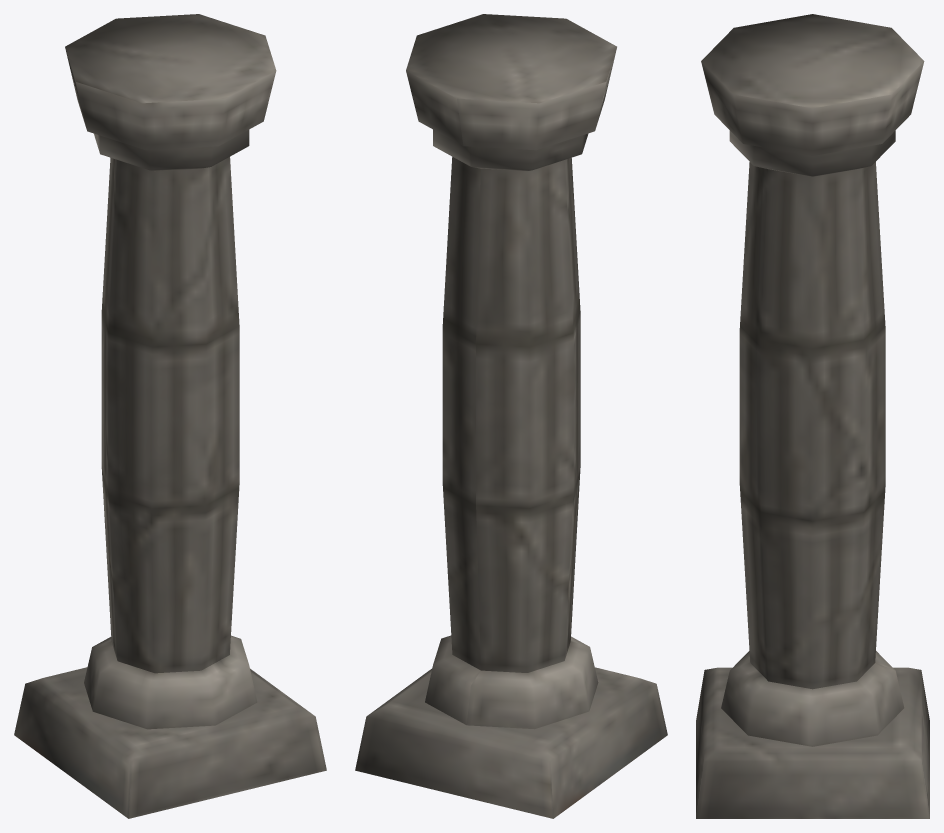
File: ruin_pillar.FBX
3 renders of one model, left to right at view 1: azimuth 30°, elevation 25°; view 2: azimuth 150°, elevation 25°; view 3: azimuth 270°, elevation 25°, orthographic. The views are drawn at different scales.
Parts seen in each view (by area): view 1: Object023; view 2: Object023; view 3: Object023.
Part boxes in pixels (bbox=[...]): Object023: bbox=[14, 14, 326, 818]; Object023: bbox=[355, 14, 667, 818]; Object023: bbox=[696, 14, 929, 818].
Size of the model in its own units: 0.8388 by 2.8 by 0.8388.
